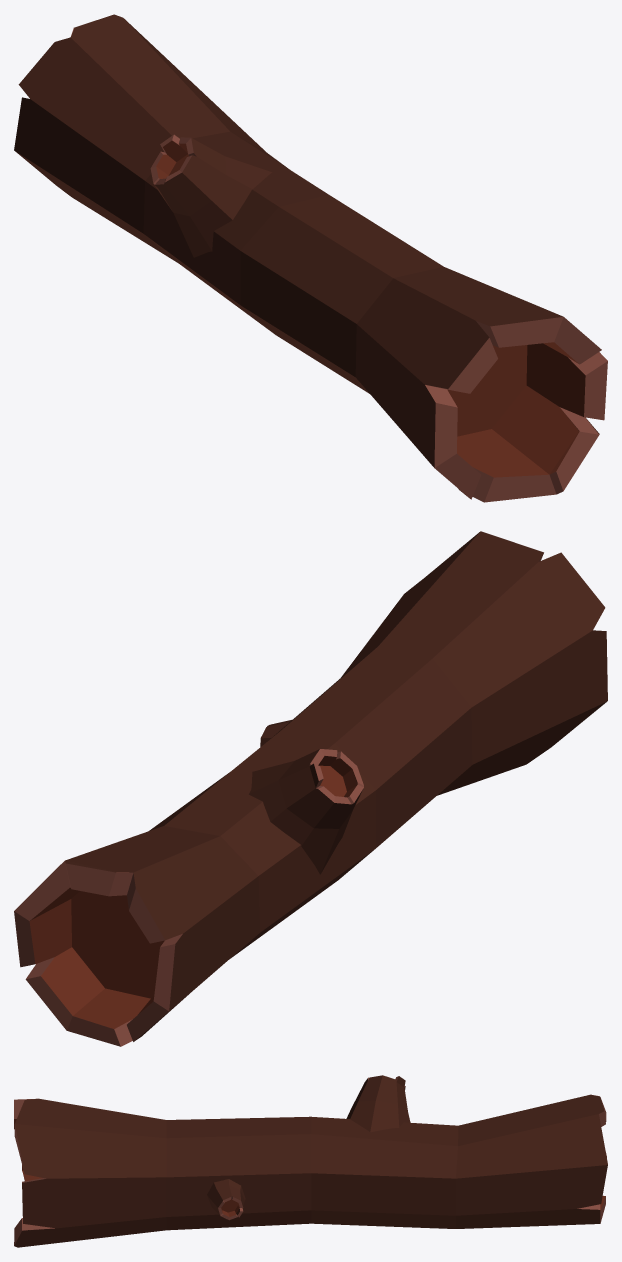
File: Log_01.fbx
3 renders of one model, top to bottom at view 1: azimuth 30°, elevation 25°; view 2: azimuth 150°, elevation 25°; view 3: azimuth 270°, elevation 25°, orthographic. The views are drawn at different scales.
Parts seen in each view (by area): view 1: Log_01; view 2: Log_01; view 3: Log_01.
Boxes of the visible parts, x1,y1,x2,y2 form: Log_01: [14, 14, 607, 502]; Log_01: [14, 531, 607, 1046]; Log_01: [14, 1075, 607, 1247].
Bounding box in the file's own units: 1.05 × 0.9941 × 3.93.
